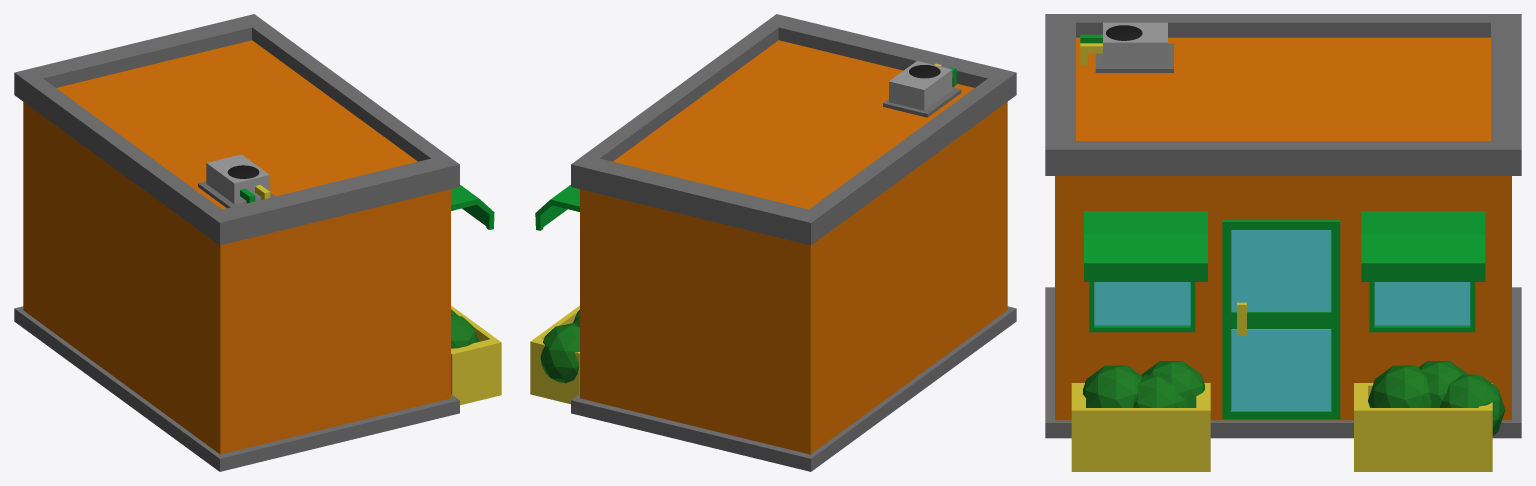
The model's file is mini-market.glb.
The picture shows the model from 3 angles, left to right: view 1: azimuth 30°, elevation 25°; view 2: azimuth 150°, elevation 25°; view 3: azimuth 270°, elevation 25°; orthographic projection. The views are drawn at different scales.
Parts seen in each view (by area): view 1: Object_2, Object_5, Object_8, Object_3, Object_7, Object_9; view 2: Object_2, Object_5, Object_3, Object_9, Object_8, Object_7; view 3: Object_2, Object_5, Object_7, Object_6, Object_8, Object_9, Object_3.
Boxes of the visible parts, bbox=[...] form: Object_2: bbox=[23, 40, 450, 454]; Object_5: bbox=[14, 14, 459, 471]; Object_8: bbox=[255, 185, 501, 405]; Object_3: bbox=[206, 154, 269, 204]; Object_7: bbox=[240, 185, 494, 229]; Object_9: bbox=[451, 309, 478, 348]; Object_2: bbox=[580, 40, 1007, 454]; Object_5: bbox=[571, 14, 1016, 471]; Object_3: bbox=[889, 61, 952, 110]; Object_9: bbox=[540, 310, 579, 383]; Object_8: bbox=[530, 63, 941, 404]; Object_7: bbox=[535, 67, 956, 230]; Object_2: bbox=[1055, 37, 1511, 420]; Object_5: bbox=[1045, 14, 1521, 438]; Object_7: bbox=[1080, 34, 1485, 419]; Object_6: bbox=[1094, 230, 1470, 411]; Object_8: bbox=[1071, 43, 1492, 471]; Object_9: bbox=[1083, 361, 1505, 435]; Object_3: bbox=[1103, 22, 1167, 66].
Size of the model in its own units: 6.33 by 5.48 by 7.69.
